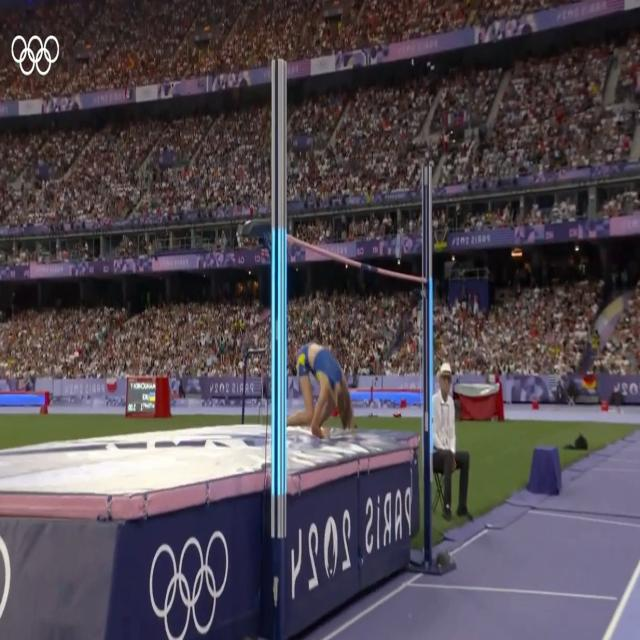land: (293, 338, 357, 439)
